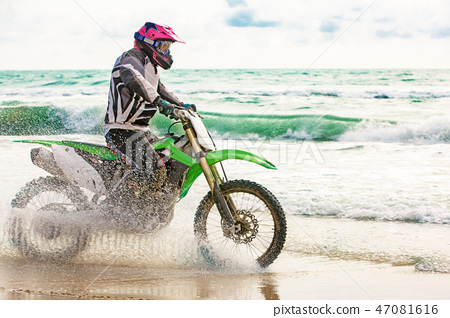helmet: (134, 19, 180, 70)
